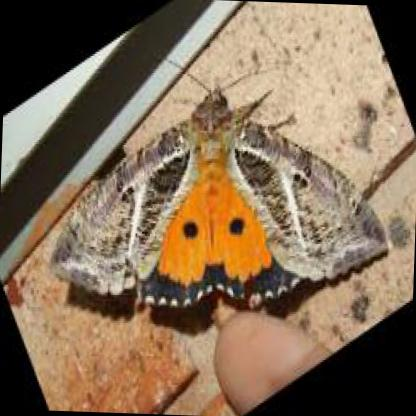fruit sucking moth: (46, 84, 387, 308)
